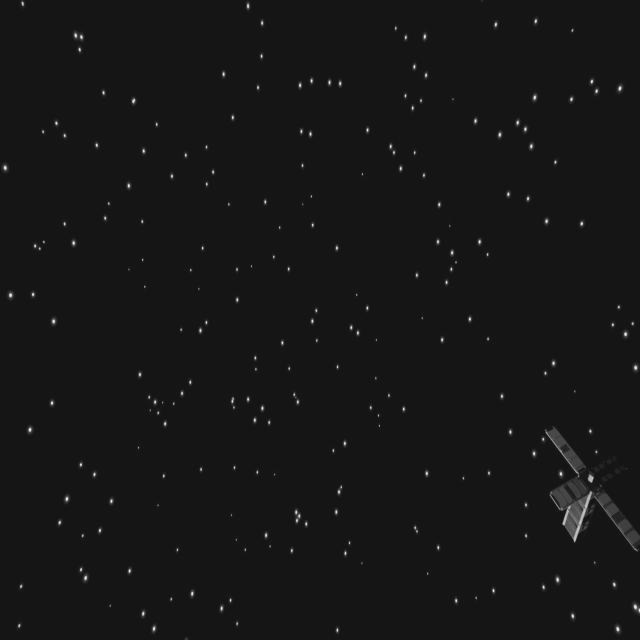medium_debris: (535, 421, 640, 565)
